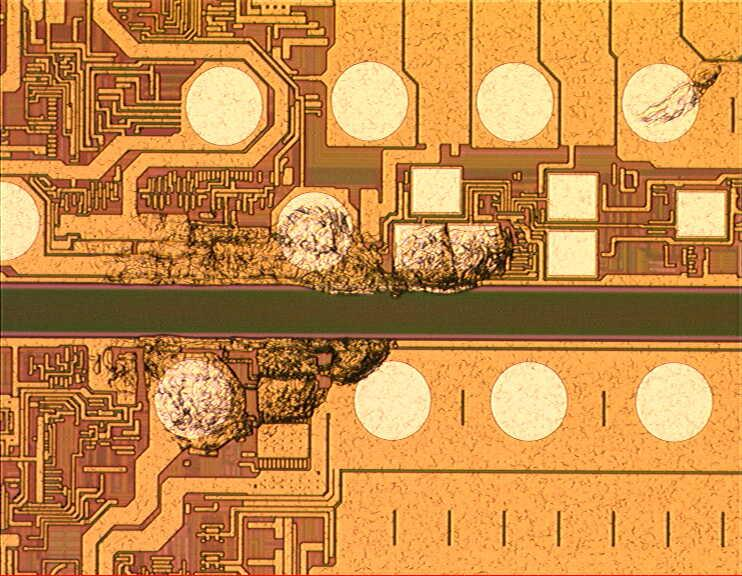SCRATCH: (71, 40, 742, 460)
